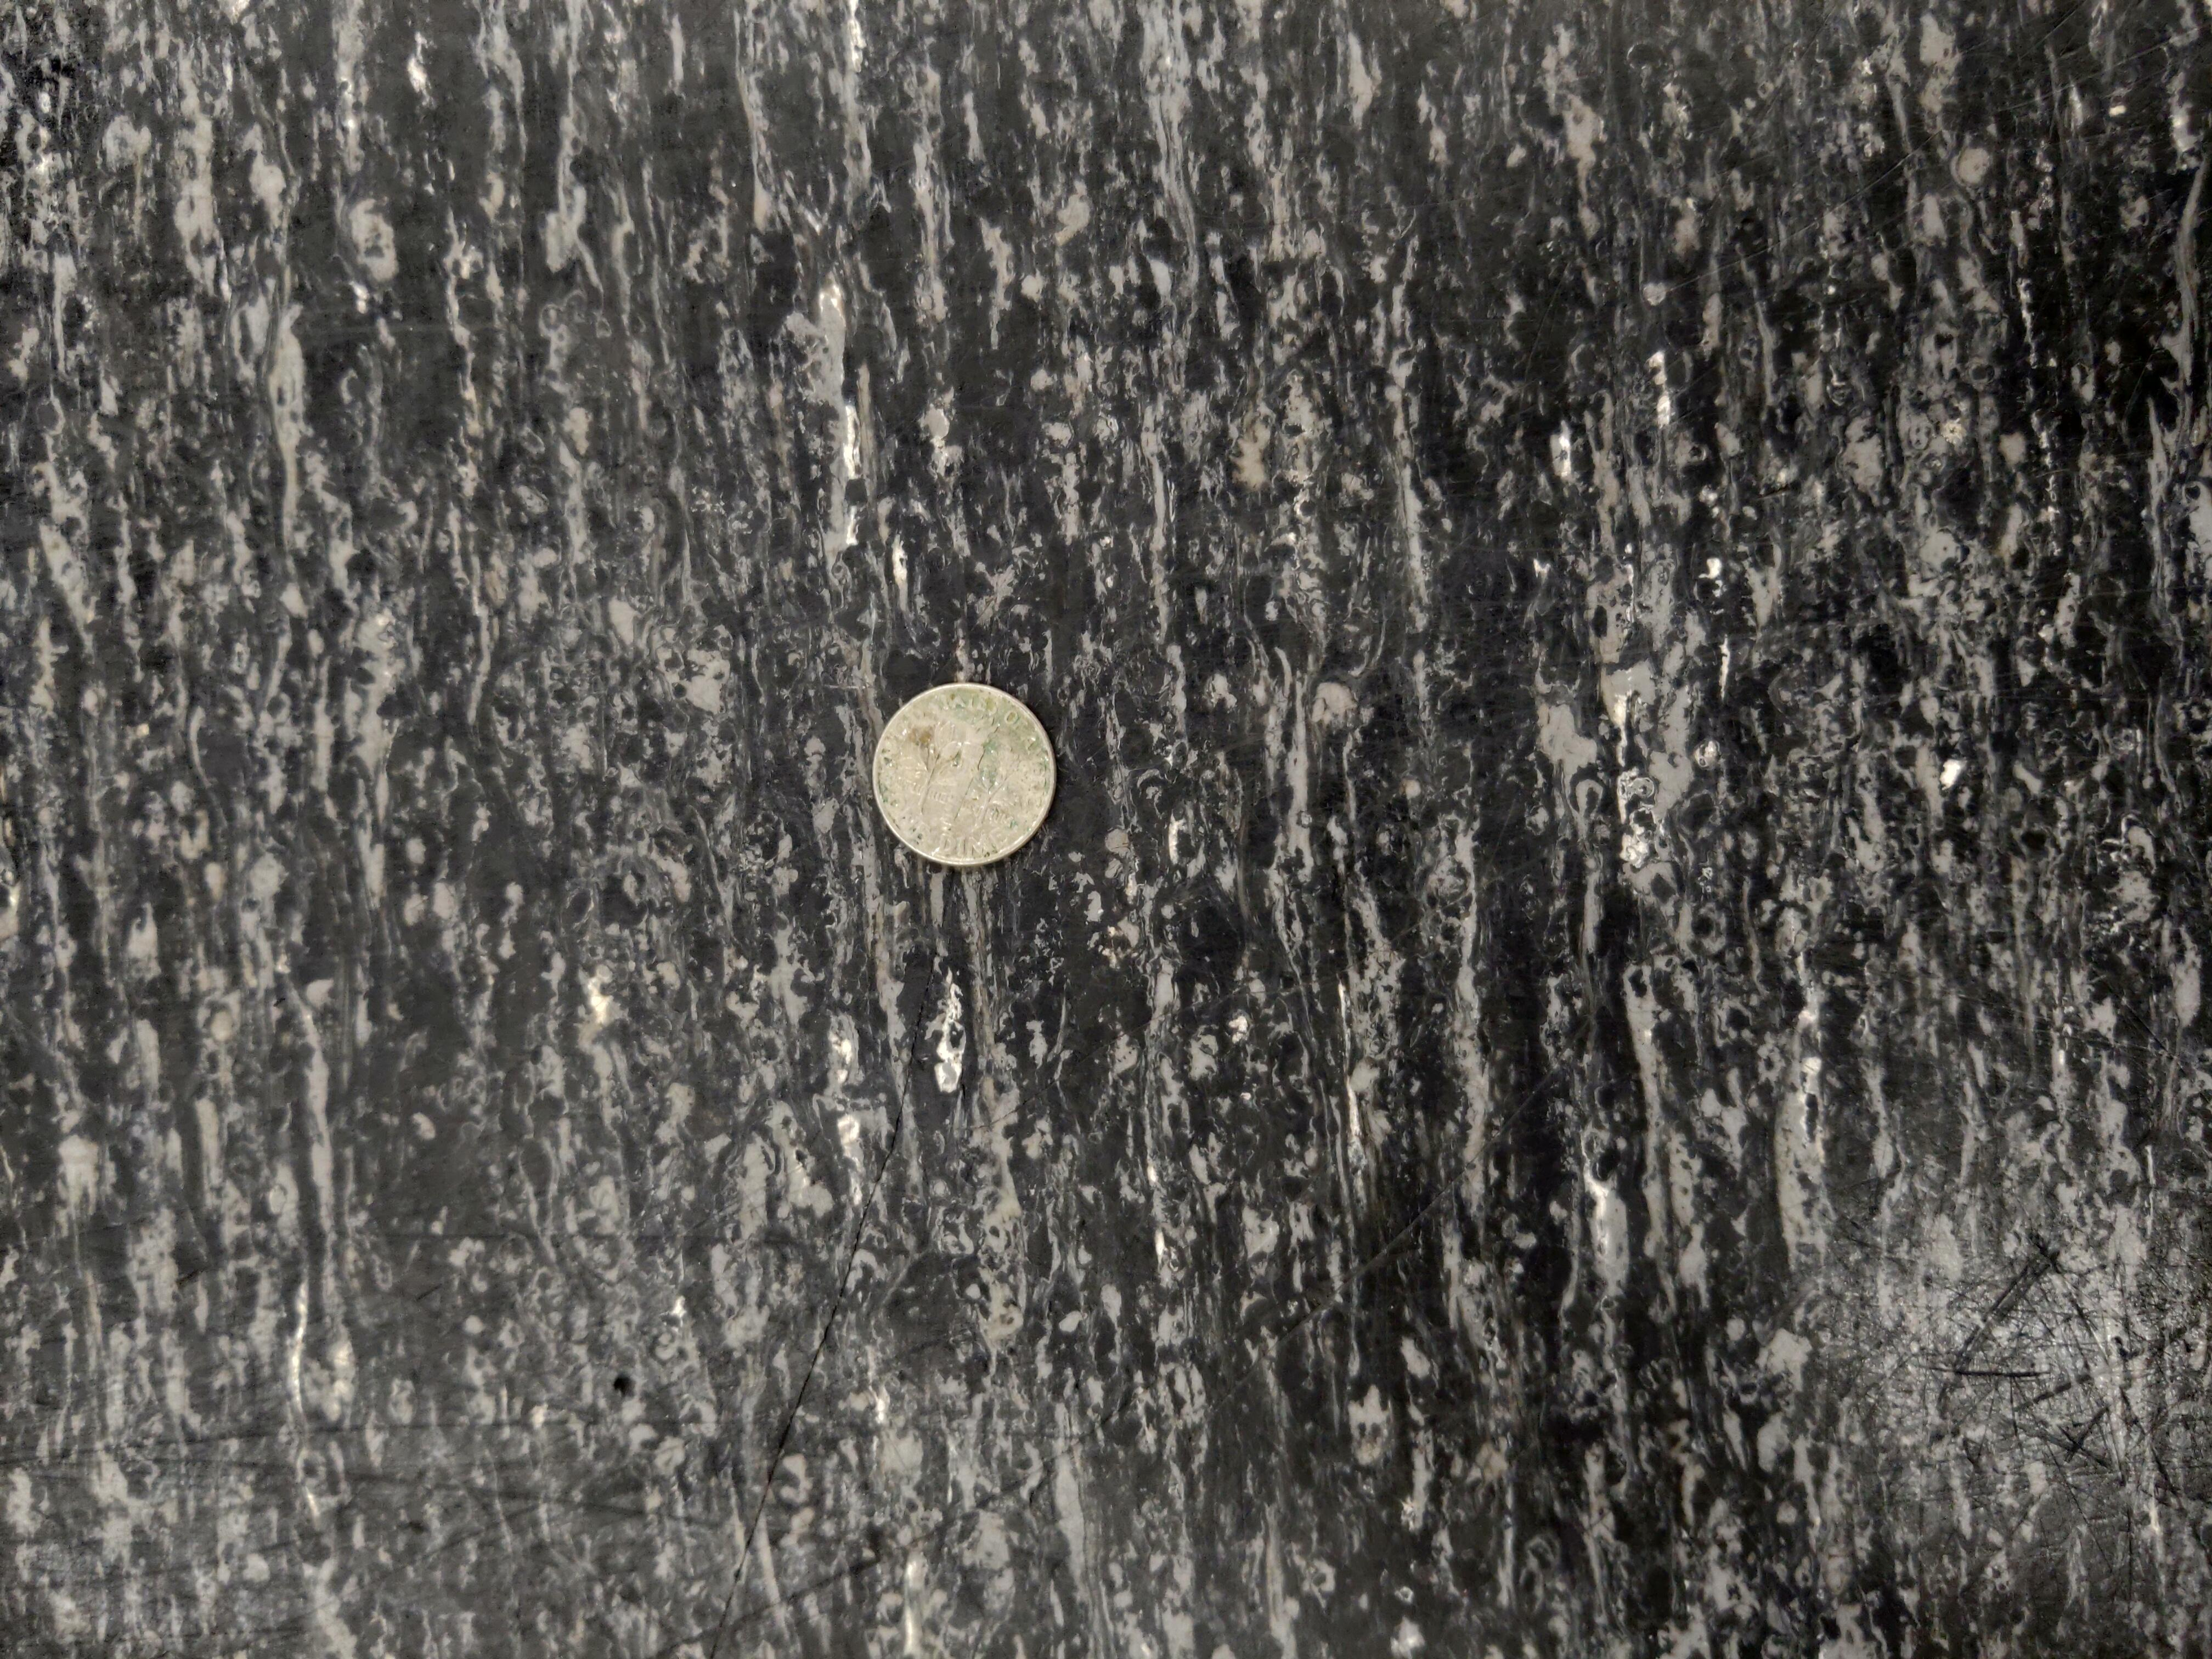Dime: (867, 676, 1055, 866)
